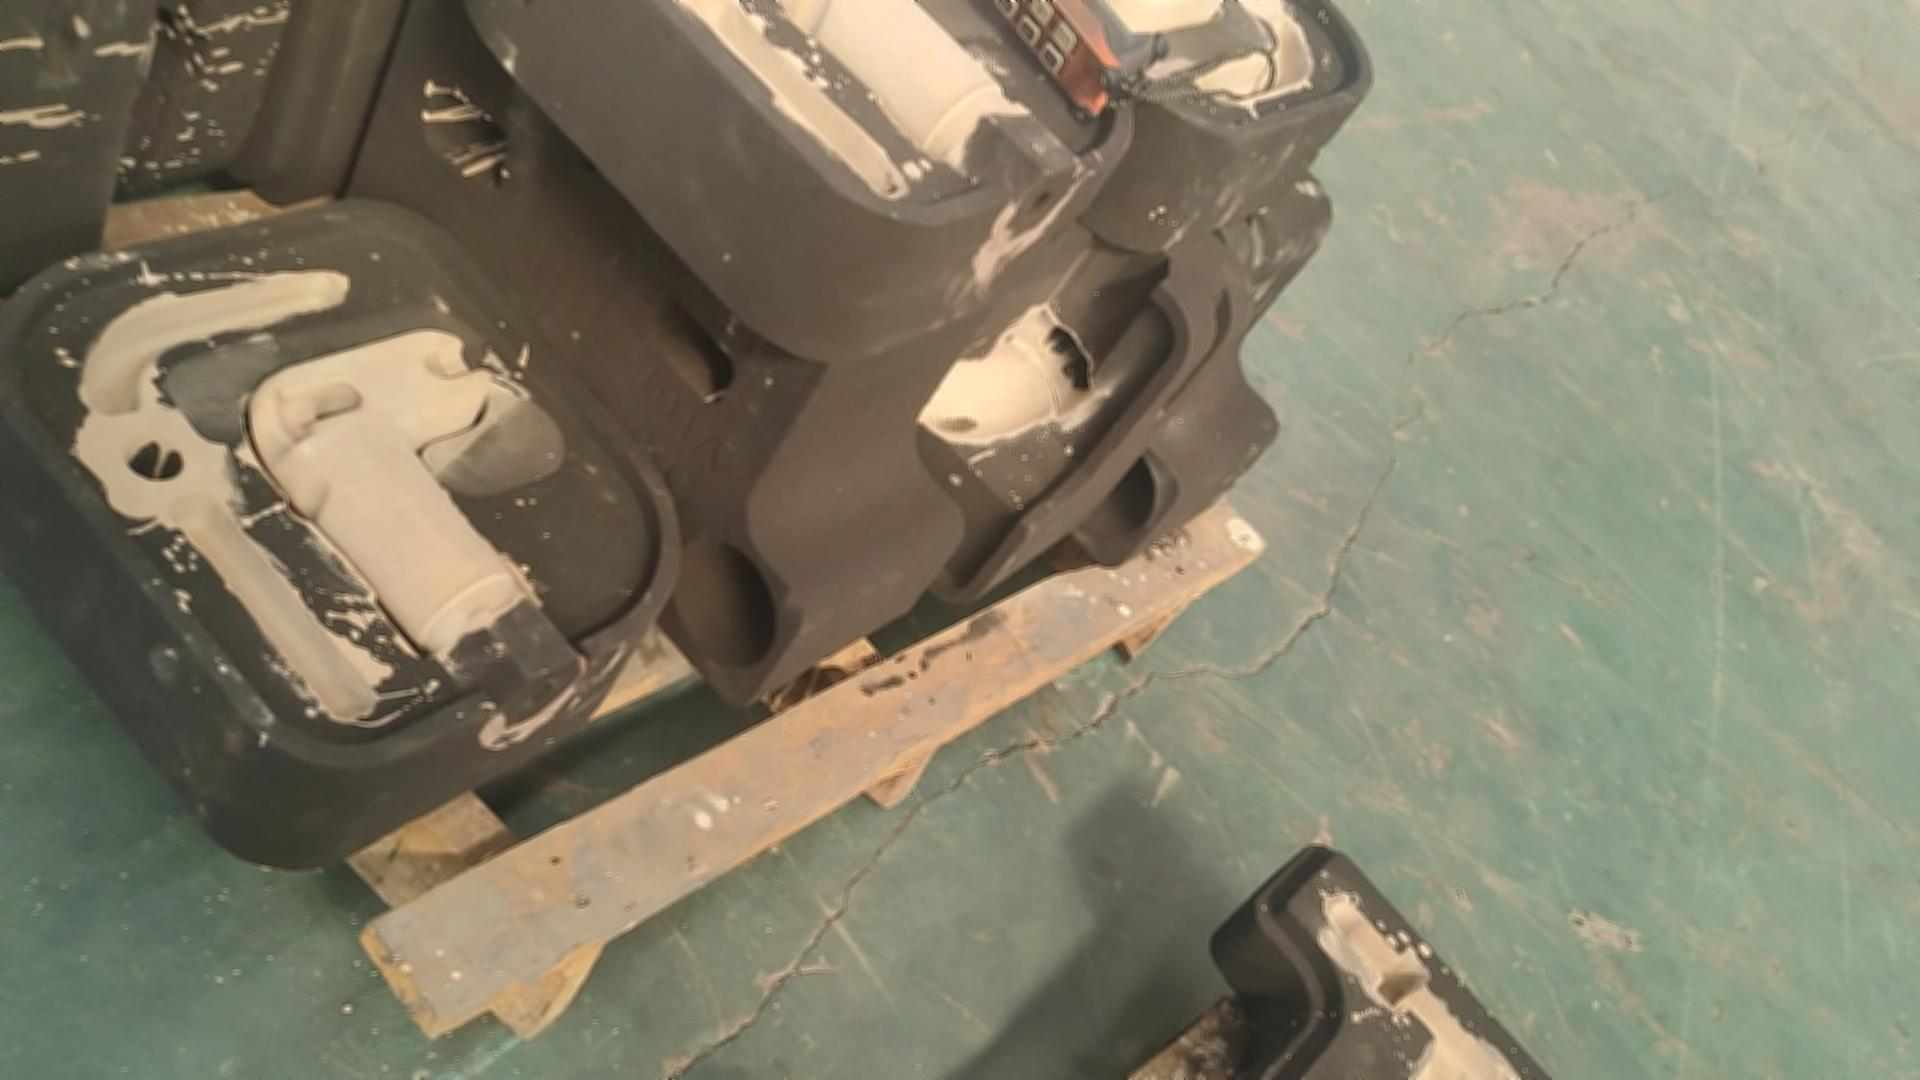pouring hole: (671, 537, 775, 667), (1062, 444, 1156, 542)
